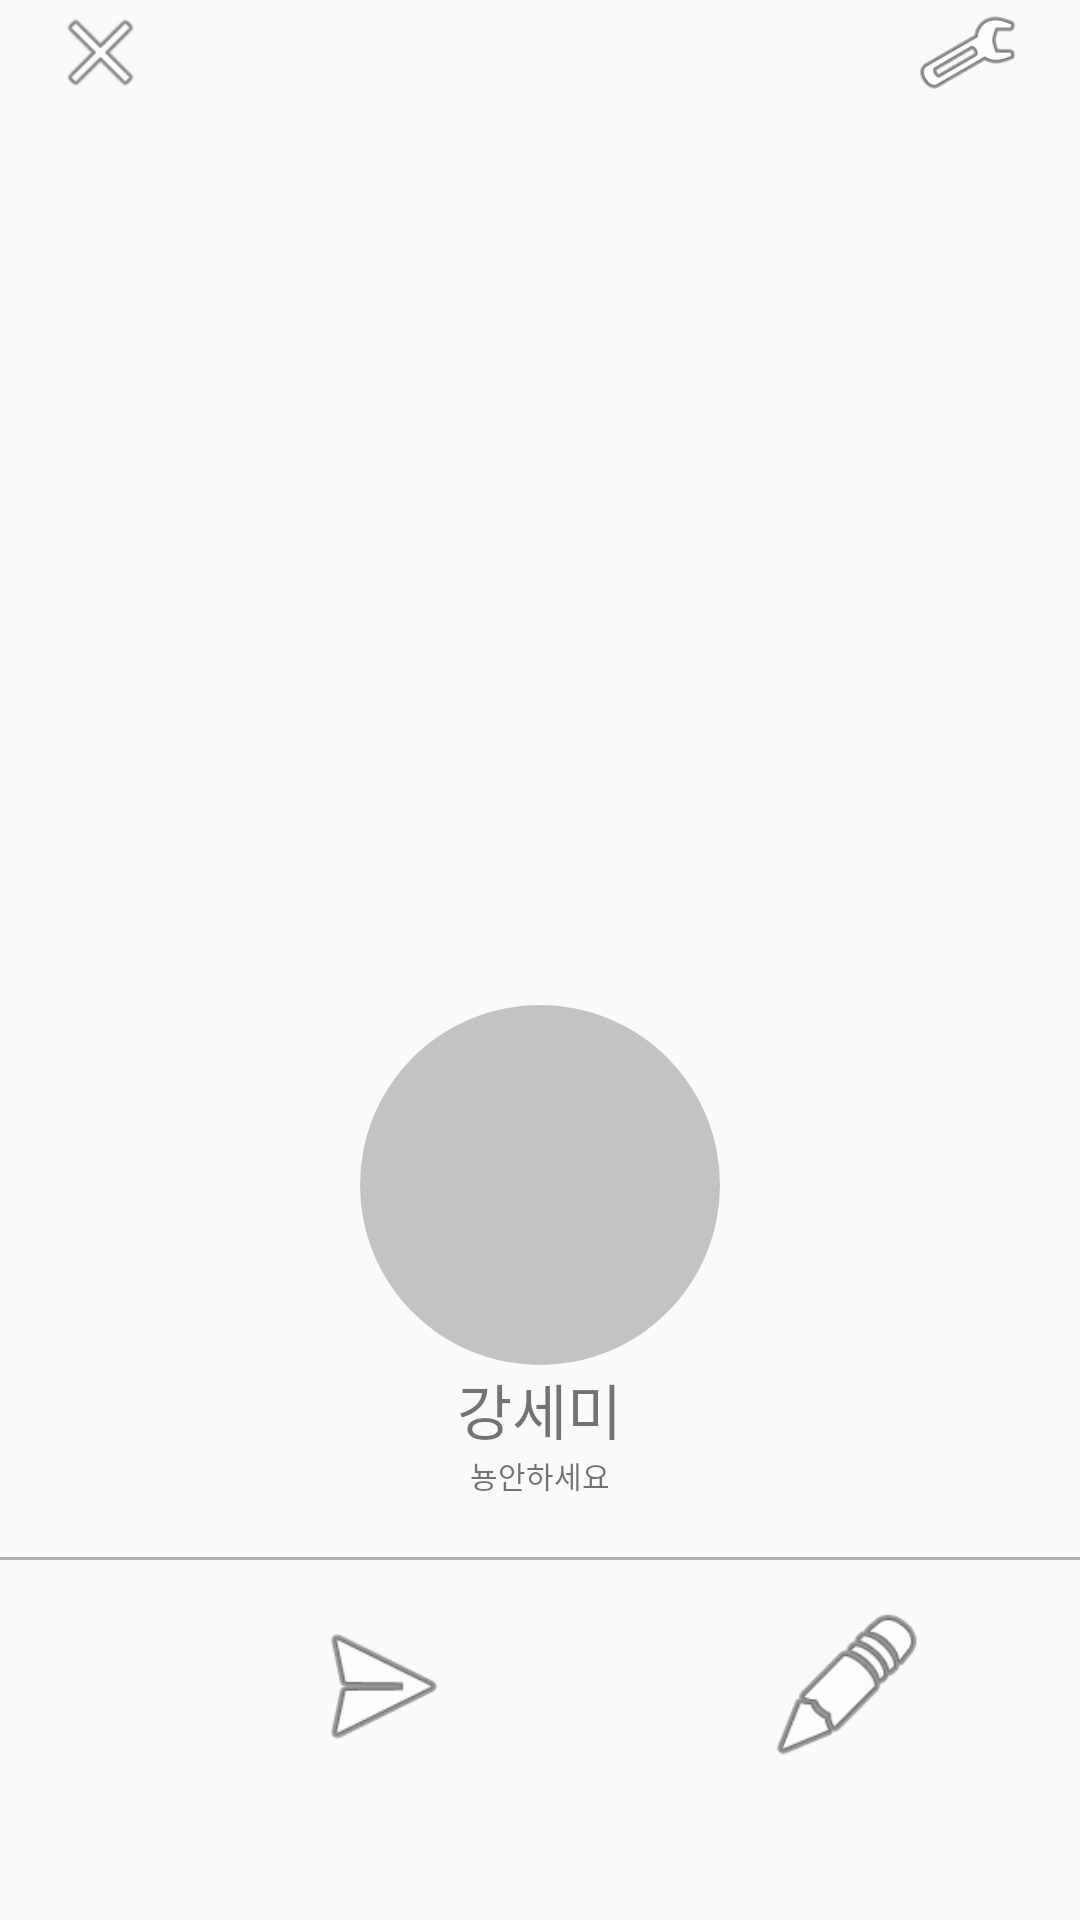

Where to tap for icons on this 1080x1920 app screen, as point (x, y):
close clear cancel: point (100, 52)
edit: point (847, 1684)
manage: point (967, 52)
send: point (384, 1686)
